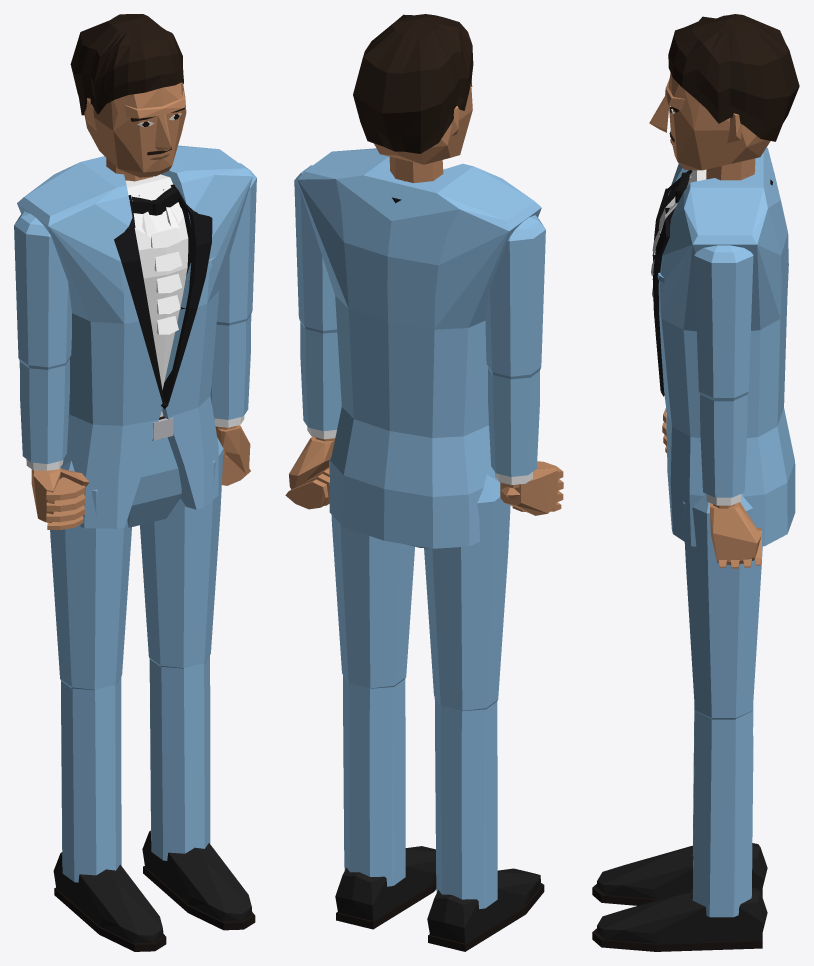
The model's file is crooner.glb.
3 renders of one model, left to right at view 1: azimuth 30°, elevation 25°; view 2: azimuth 150°, elevation 25°; view 3: azimuth 270°, elevation 25°, orthographic. The views are drawn at different scales.
Visible parts, largest first — view 1: chest_mesh, head_mesh, spine_mesh, hips_mesh, upperLegR_mesh, upperLegL_mesh, lowerLegL_mesh, lowerLegR_mesh, upperArmR_mesh, footR_mesh, footL_mesh, lowerArmR_mesh (+5 smaller); view 2: chest_mesh, hips_mesh, spine_mesh, head_mesh, upperLegR_mesh, lowerLegR_mesh, lowerLegL_mesh, upperLegL_mesh, upperArmR_mesh, lowerArmR_mesh, footR_mesh, footL_mesh (+5 smaller); view 3: head_mesh, chest_mesh, upperLegL_mesh, lowerLegL_mesh, upperArmL_mesh, hips_mesh, spine_mesh, footL_mesh, lowerArmL_mesh, footR_mesh, handL_mesh, neck_mesh.
Boxes of the visible parts, left/top/right/bottom form: chest_mesh: left=17, top=145, right=252, bottom=324; head_mesh: left=70, top=14, right=186, bottom=177; spine_mesh: left=69, top=290, right=219, bottom=425; hips_mesh: left=61, top=396, right=218, bottom=528; upperLegR_mesh: left=50, top=460, right=131, bottom=690; upperLegL_mesh: left=140, top=438, right=223, bottom=668; lowerLegL_mesh: left=149, top=655, right=210, bottom=860; lowerLegR_mesh: left=61, top=677, right=121, bottom=882; upperArmR_mesh: left=14, top=211, right=71, bottom=369; footR_mesh: left=53, top=852, right=166, bottom=951; footL_mesh: left=142, top=830, right=255, bottom=930; lowerArmR_mesh: left=19, top=359, right=69, bottom=470; chest_mesh: left=297, top=148, right=541, bottom=329; hips_mesh: left=329, top=407, right=497, bottom=548; spine_mesh: left=335, top=295, right=488, bottom=437; head_mesh: left=353, top=14, right=473, bottom=164; upperLegR_mesh: left=424, top=474, right=510, bottom=711; lowerLegR_mesh: left=434, top=697, right=497, bottom=908; lowerLegL_mesh: left=343, top=675, right=405, bottom=886; upperLegL_mesh: left=329, top=457, right=414, bottom=688; upperArmR_mesh: left=485, top=215, right=545, bottom=379; lowerArmR_mesh: left=488, top=368, right=539, bottom=488; footR_mesh: left=427, top=868, right=544, bottom=951; footL_mesh: left=335, top=846, right=436, bottom=929; head_mesh: left=649, top=14, right=799, bottom=170; chest_mesh: left=651, top=147, right=788, bottom=331; upperLegL_mesh: left=682, top=493, right=762, bottom=719; lowerLegL_mesh: left=692, top=710, right=753, bottom=917; upperArmL_mesh: left=694, top=245, right=753, bottom=401; hips_mesh: left=666, top=408, right=795, bottom=546; spine_mesh: left=653, top=298, right=787, bottom=437; footL_mesh: left=592, top=887, right=767, bottom=951; lowerArmL_mesh: left=700, top=394, right=747, bottom=508; footR_mesh: left=592, top=843, right=767, bottom=905; handL_mesh: left=710, top=502, right=761, bottom=568; neck_mesh: left=665, top=158, right=755, bottom=218.
Size of the model in its own units: 0.51 by 1.84 by 0.3853.
